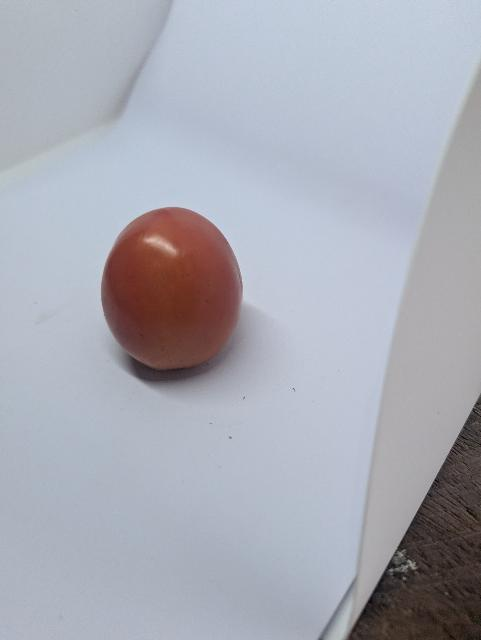red: (98, 201, 246, 386)
